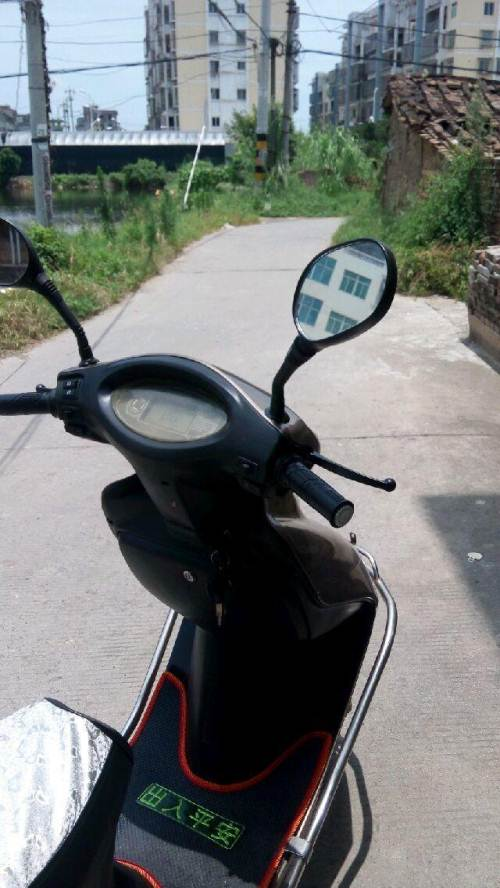电动车: (1, 205, 422, 888)
